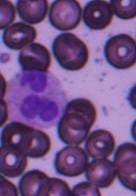N: (4, 69, 69, 129)
